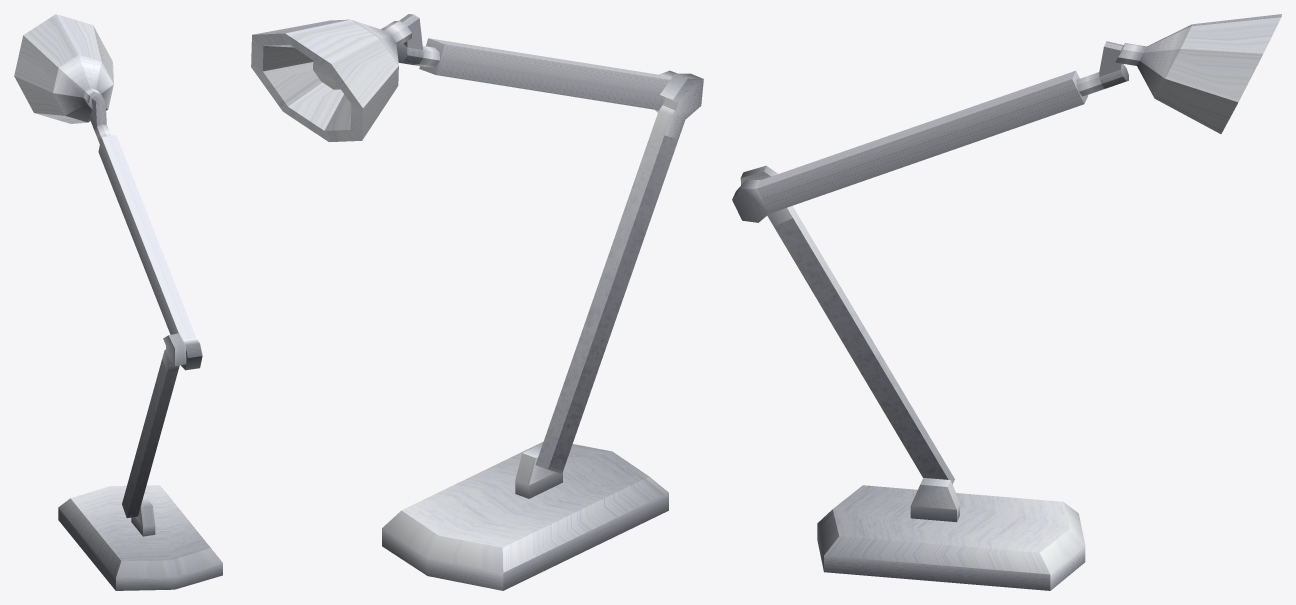
The model's file is lamp.fbx.
3 renders of one model, left to right at view 1: azimuth 30°, elevation 25°; view 2: azimuth 150°, elevation 25°; view 3: azimuth 270°, elevation 25°, orthographic. The views are drawn at different scales.
Visible parts, largest first — view 1: lampBase, lampHead, upperLeg, lowerLeg, upperPivot, basePivot; view 2: lampBase, lampHead, lowerLeg, upperLeg, basePivot, upperPivot; view 3: lampBase, upperLeg, lampHead, lowerLeg, basePivot, upperPivot.
Boxes of the visible parts, x1,y1,x2,y2 form: lampBase: [58, 485, 222, 590]; lampHead: [14, 14, 113, 123]; upperLeg: [98, 135, 202, 370]; lowerLeg: [122, 333, 186, 517]; upperPivot: [89, 96, 110, 143]; basePivot: [131, 497, 155, 536]; lampBase: [382, 441, 668, 590]; lampHead: [251, 19, 412, 142]; lowerLeg: [535, 73, 703, 473]; upperLeg: [419, 38, 677, 112]; basePivot: [515, 443, 562, 498]; upperPivot: [397, 14, 439, 67]; lampBase: [817, 485, 1085, 590]; upperLeg: [732, 70, 1087, 222]; lampHead: [1115, 14, 1281, 133]; lowerLeg: [740, 165, 954, 484]; basePivot: [910, 478, 959, 522]; upperPivot: [1076, 41, 1128, 96].
Bounding box in the file's own units: 1.14 × 3.22 × 2.86.
